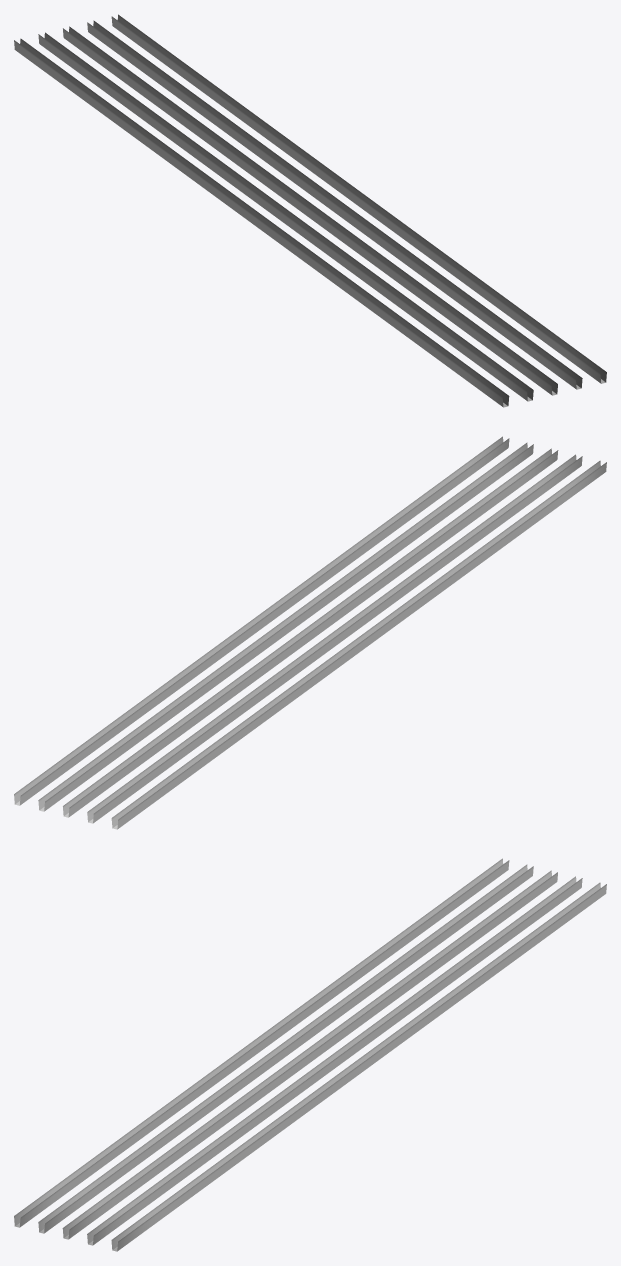
The model's file is SW_corridor__R_lobby_PILLAR_001.FBX.
3 renders of one model, top to bottom at view 1: azimuth 30°, elevation 25°; view 2: azimuth 150°, elevation 25°; view 3: azimuth 330°, elevation 25°, orthographic.
Parts seen in each view (by area): view 1: SW_corridor__R_lobby_PILLAR_001; view 2: SW_corridor__R_lobby_PILLAR_001; view 3: SW_corridor__R_lobby_PILLAR_001.
Part boxes in pixels (left/top/right/bottom): SW_corridor__R_lobby_PILLAR_001: left=14, top=14, right=606, bottom=407; SW_corridor__R_lobby_PILLAR_001: left=14, top=436, right=606, bottom=829; SW_corridor__R_lobby_PILLAR_001: left=14, top=858, right=606, bottom=1251.
Size of the model in its own units: 521 by 4236 by 49.
